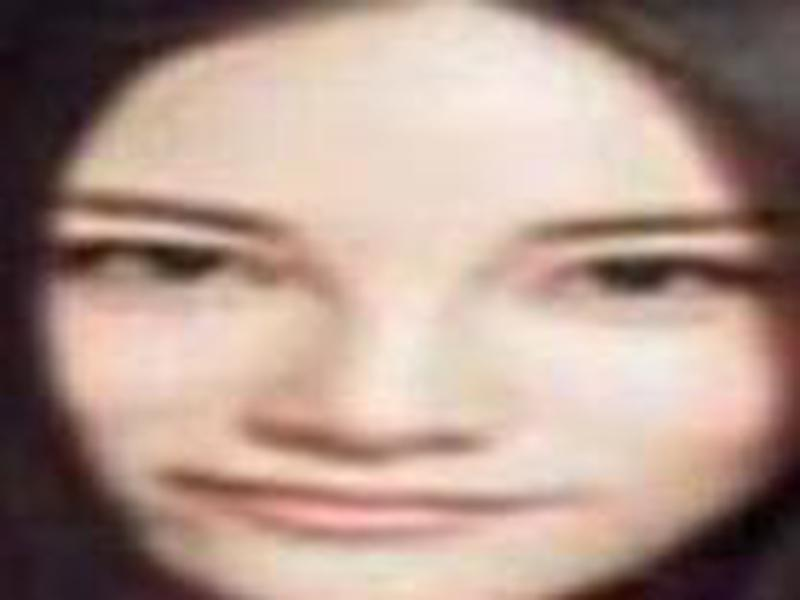without_mask: (48, 21, 768, 595)
